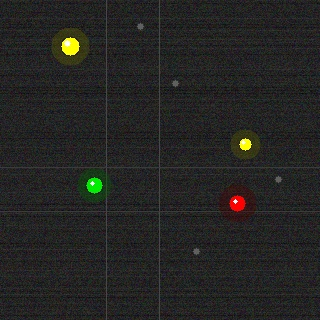green_normal: (84, 175, 104, 195)
red_fault: (227, 193, 247, 213)
yellow_warning: (59, 35, 81, 57), (237, 136, 253, 152)
